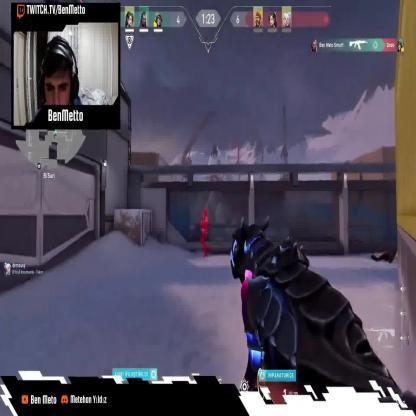enemy: (199, 208, 209, 258)
enemy_head: (203, 209, 207, 216)
